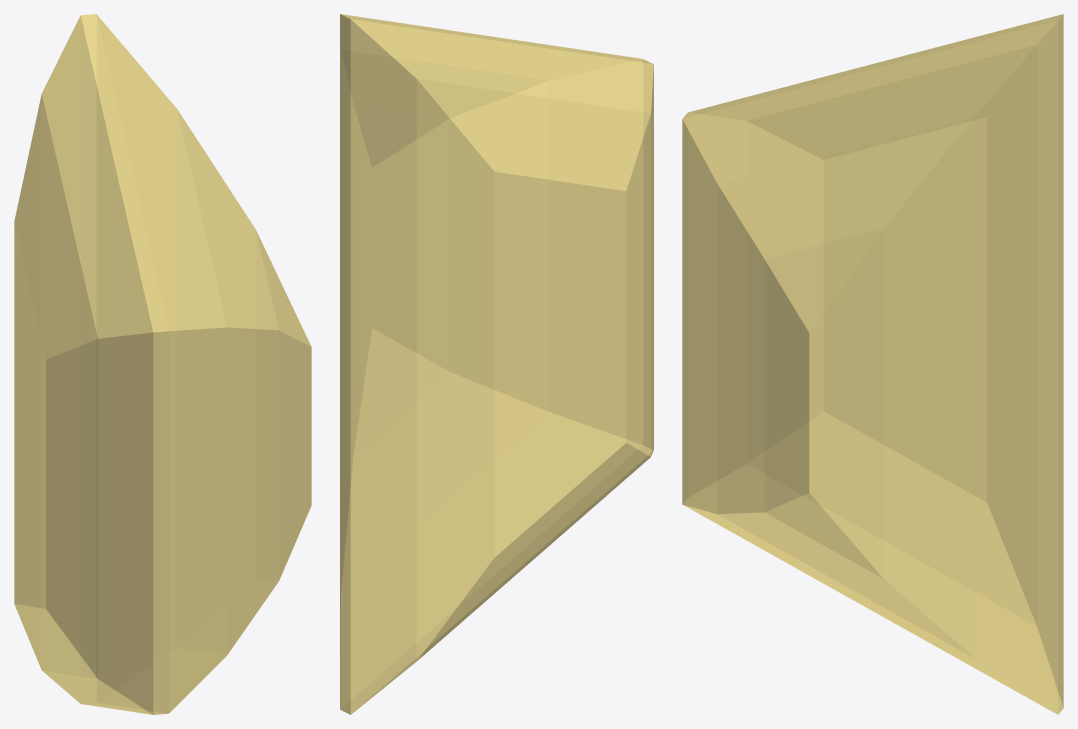
File: trapeze saphire jaune.glb
The picture shows the model from 3 angles, left to right: view 1: azimuth 30°, elevation 25°; view 2: azimuth 150°, elevation 25°; view 3: azimuth 270°, elevation 25°; orthographic projection.
Visible parts, largest first — view 1: Trapeze Gemstone.001; view 2: Trapeze Gemstone.001; view 3: Trapeze Gemstone.001.
Part boxes in pixels (x1=…): Trapeze Gemstone.001: x1=14, y1=14, x2=311, y2=714; Trapeze Gemstone.001: x1=340, y1=14, x2=653, y2=714; Trapeze Gemstone.001: x1=682, y1=14, x2=1063, y2=714.
Bounding box in the file's own units: 0.7447 × 1.89 × 0.9423.
